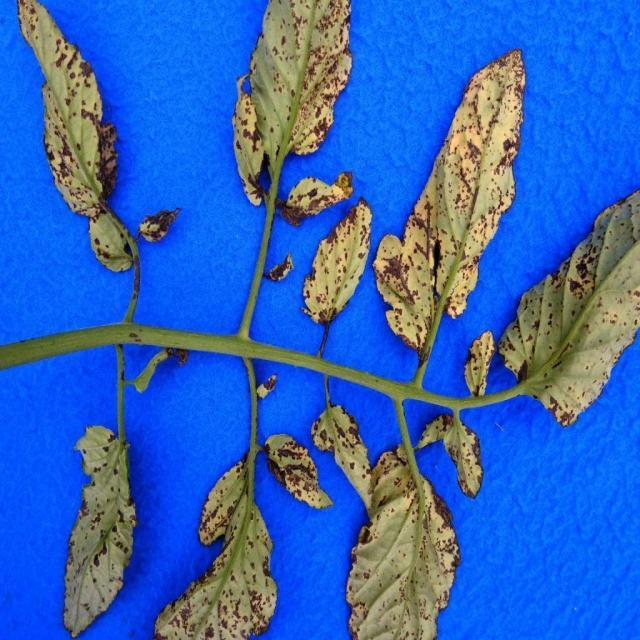Bacterial Spot: (378, 51, 528, 341), (501, 183, 640, 475), (217, 1, 360, 226), (13, 0, 115, 213), (350, 461, 457, 640), (50, 428, 136, 634), (154, 496, 272, 640), (302, 194, 372, 330), (262, 437, 332, 511), (196, 457, 243, 539), (448, 413, 484, 495), (458, 324, 492, 394)
